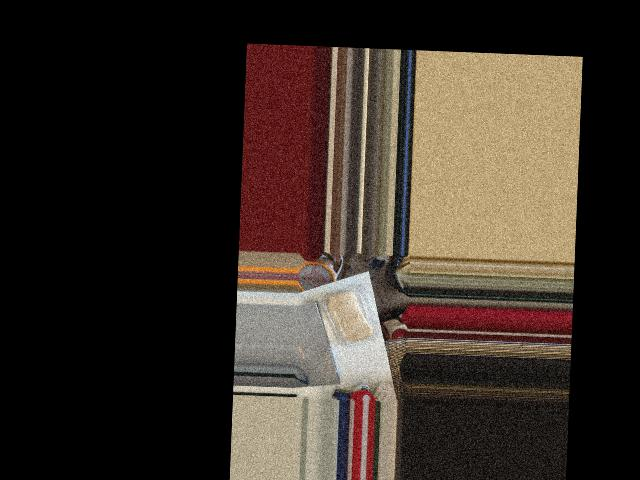cheese: (319, 277, 381, 350)
